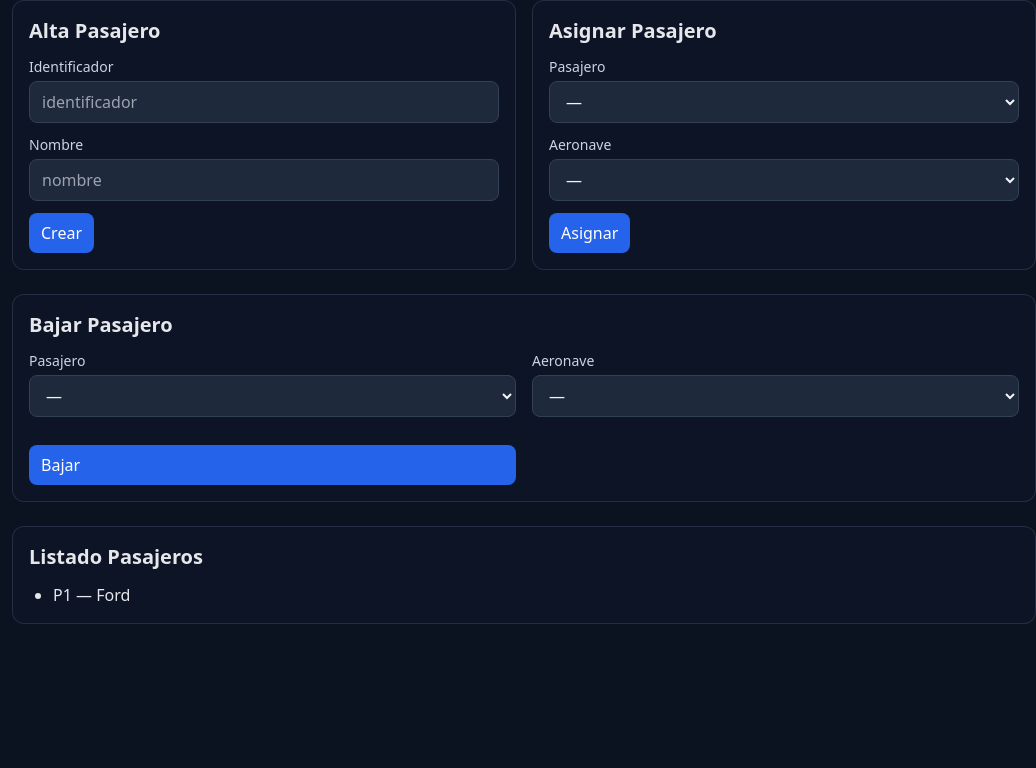
Scenario: PasajerosPage – ramas extra de asignar/bajar › muestra mensaje de éxito al asignar; y error al bajar
Select "Ford (P1)" in the dropdown labelled "Pasajero" below "Asignar Pasajero". click: (784, 102)
box: [549, 81, 1019, 123]
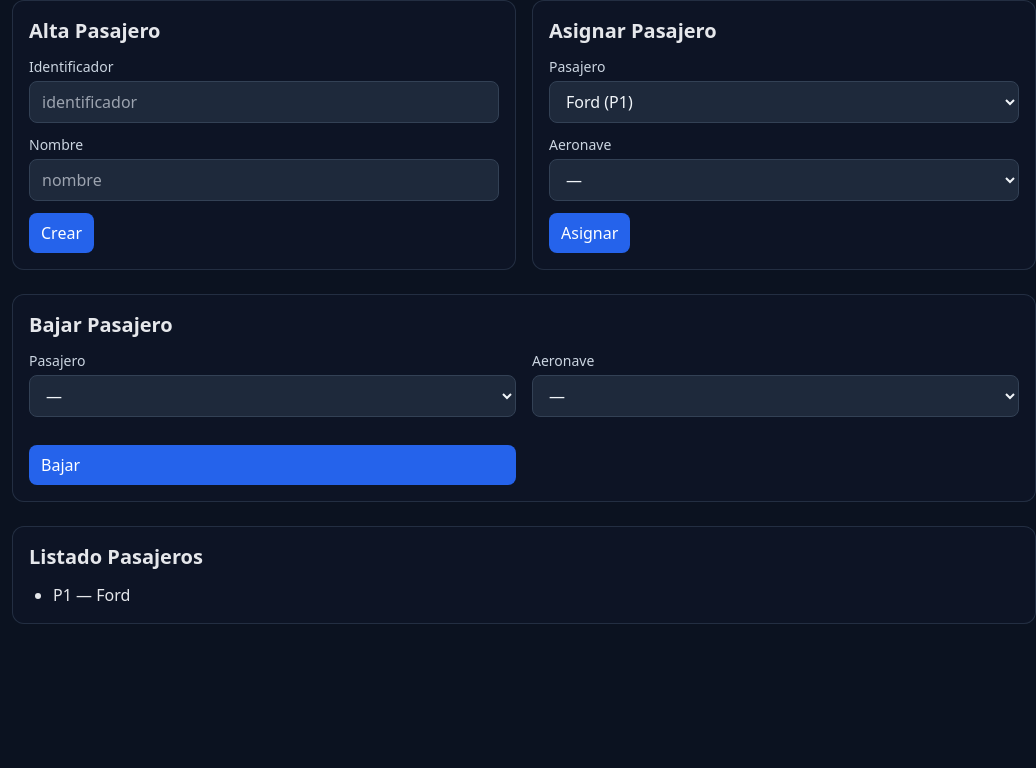
Select "Aeronave Uno (A1)" in the dropdown labelled "Aeronave" below "Asignar Pasajero". click: (784, 180)
box: [549, 159, 1019, 201]
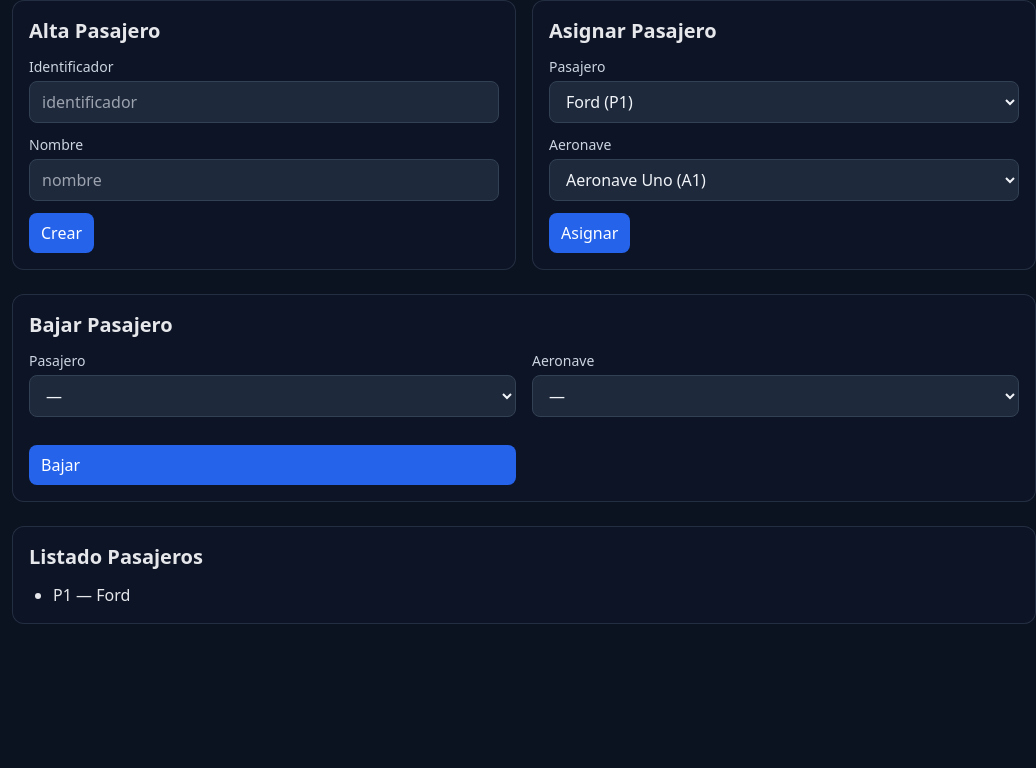
Click the button "Asignar". click: (590, 233)
box: [549, 213, 630, 253]
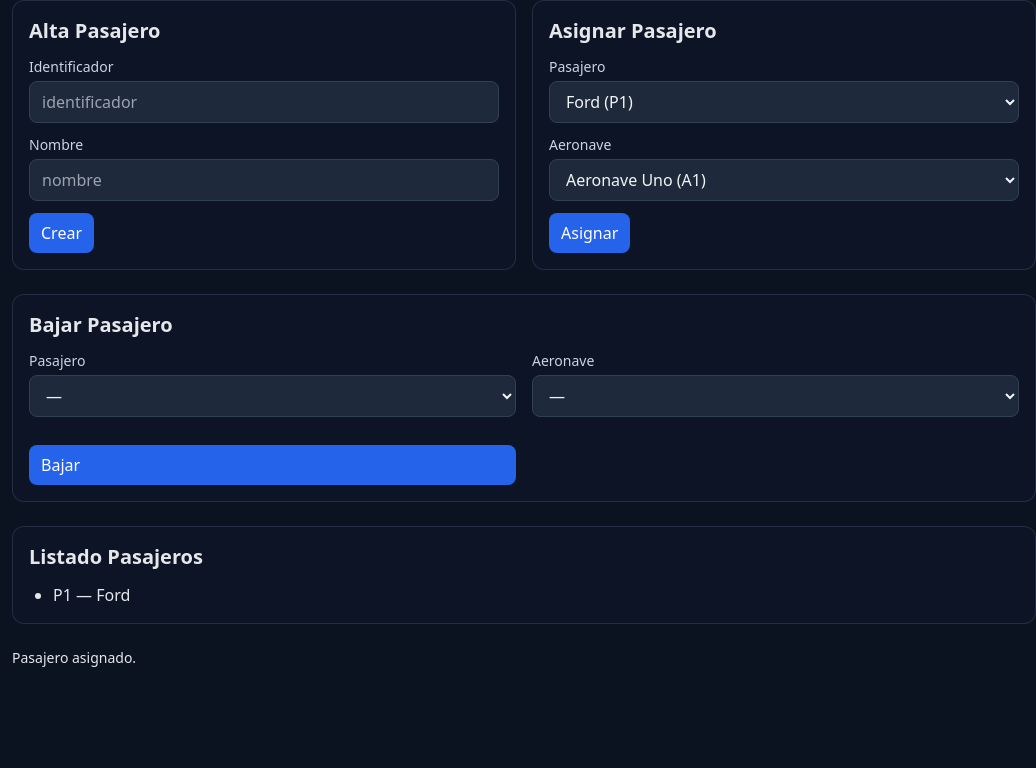
Expected: the text "Pasajero asignado." is shown, [12, 648, 136, 667]
# Bajar (error 404)
Select "Ford (P1)" in the dropdown labelled "Pasajero" below "Bajar Pasajero". click: (272, 396)
box: [29, 375, 516, 417]
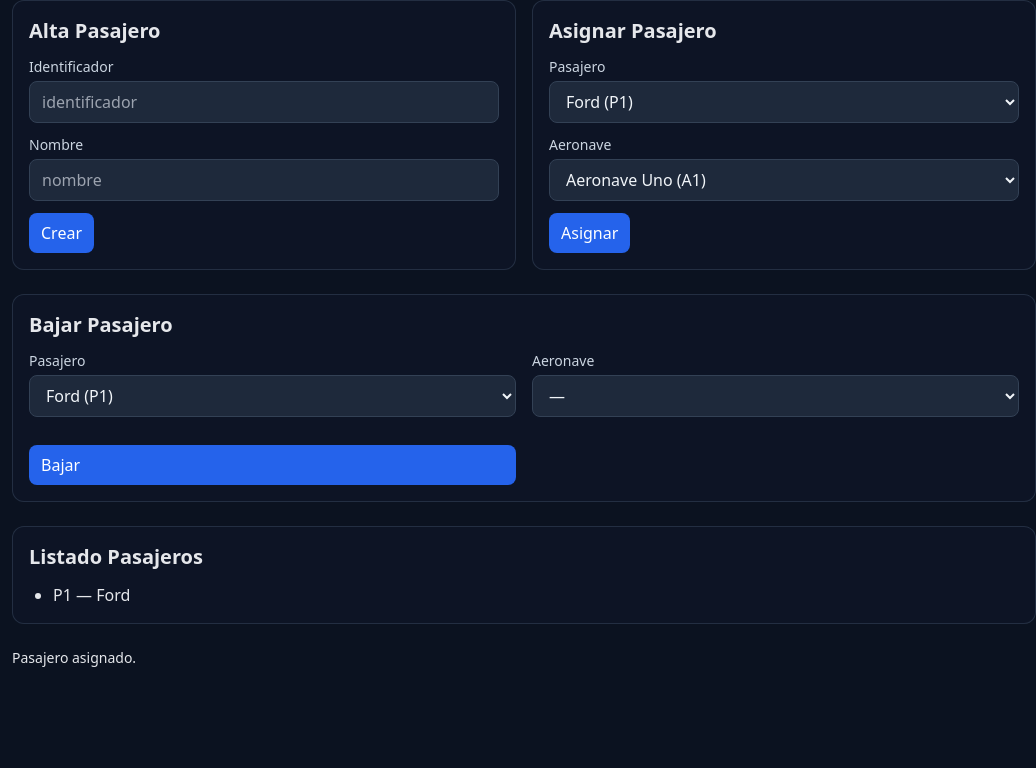
Select "Aeronave Uno (A1)" in the 2nd dropdown labelled "Aeronave". click: (776, 396)
box: [532, 375, 1019, 417]
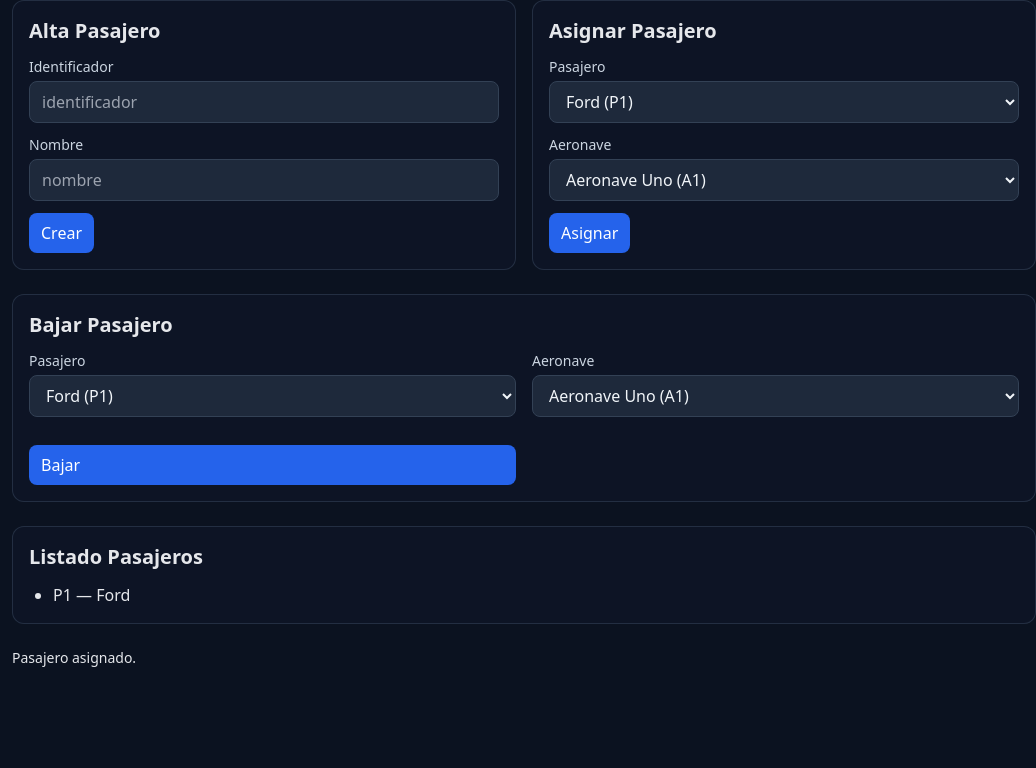
Click the button "Bajar". click: (61, 465)
box: [29, 445, 516, 485]
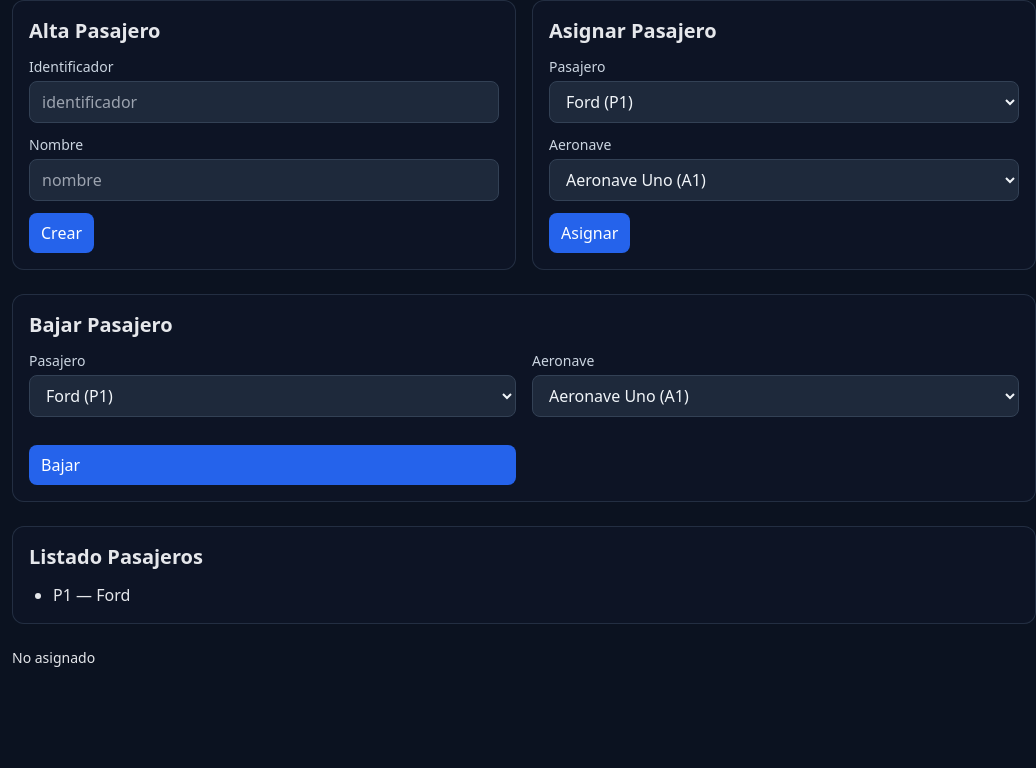
Expected: the text "No asignado" is shown, [12, 648, 95, 667]
